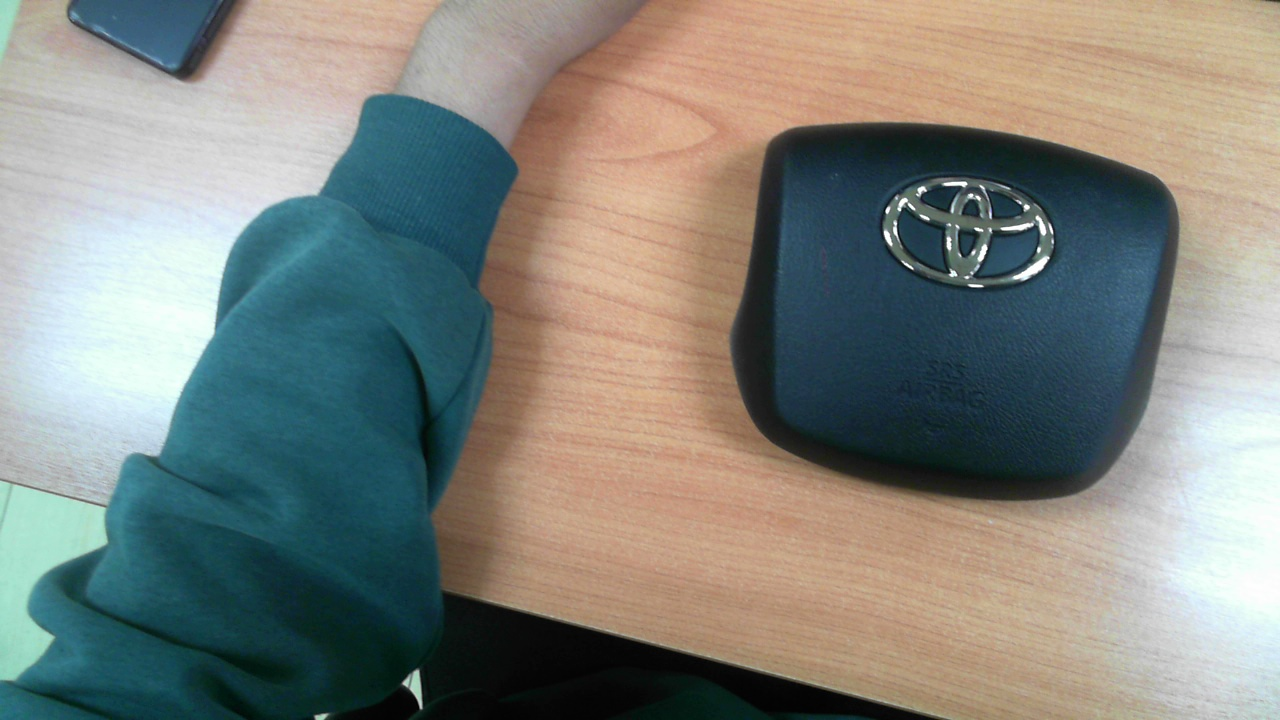Airbag: (729, 122, 1180, 503)
Toyota: (883, 177, 1055, 289)
